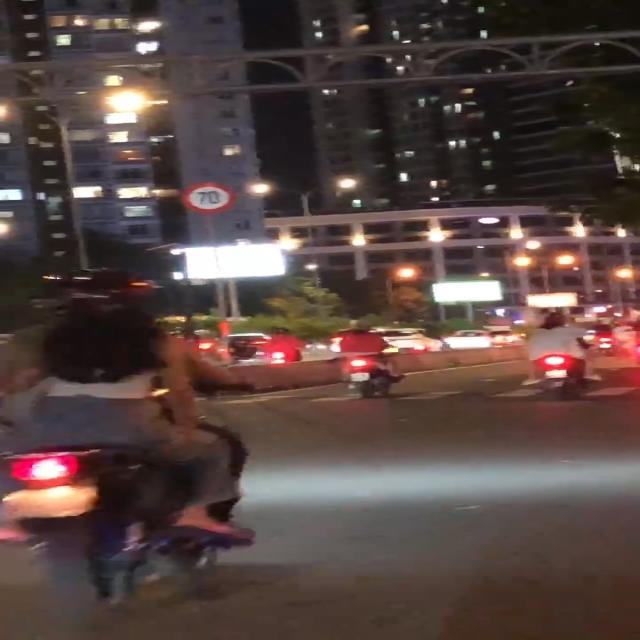Bien bao toc do toi da cho phep: (181, 180, 238, 216)
